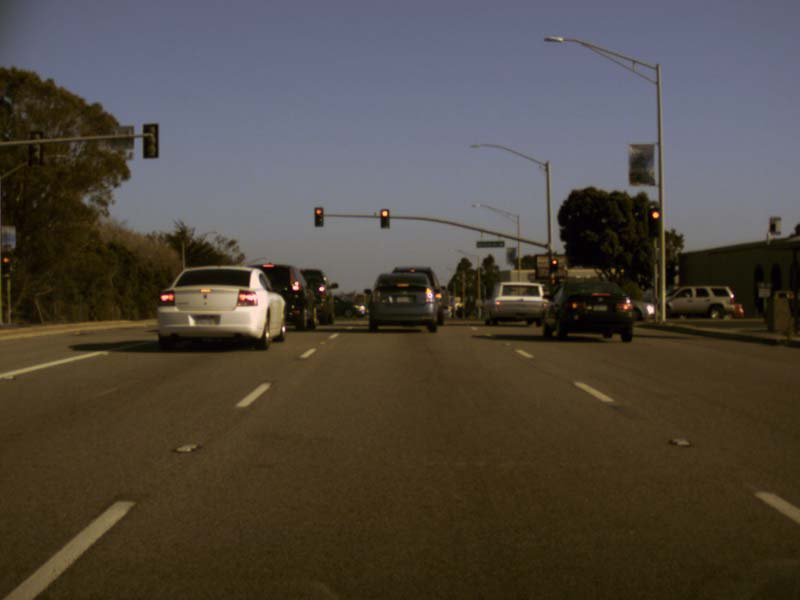Red: (648, 208, 659, 235), (1, 251, 11, 277), (380, 209, 389, 228), (314, 207, 322, 227), (550, 259, 557, 271)
